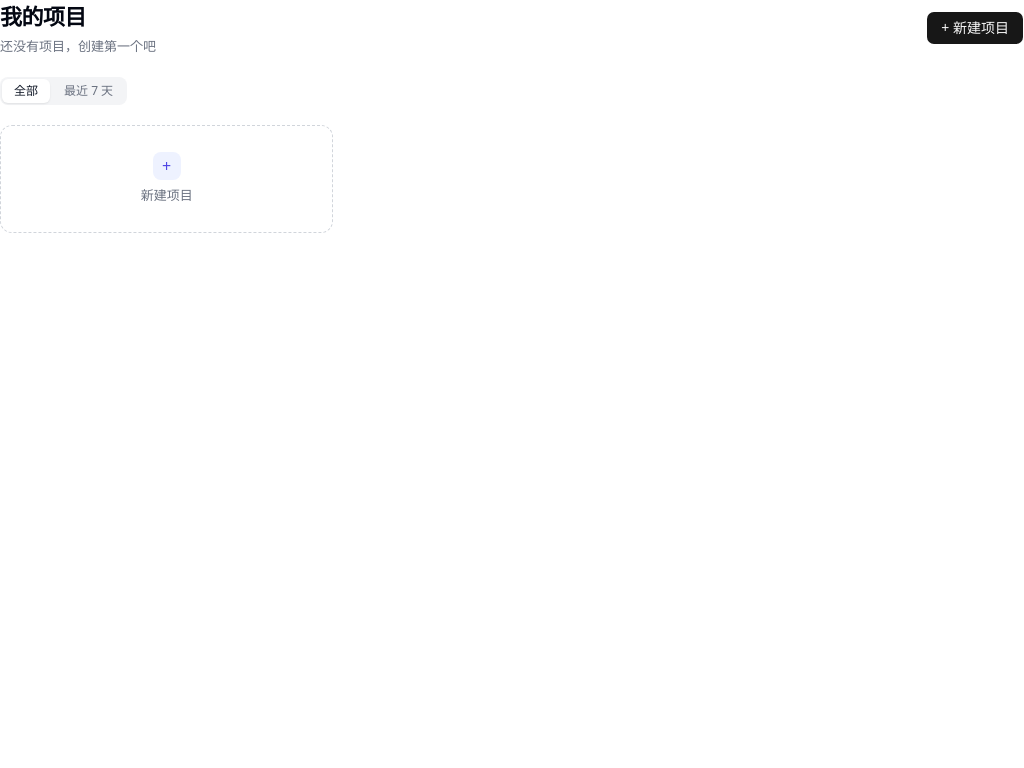
ProjectList › UI-PL-01b: empty state includes a create button that opens dialog
The "创建第一个项目" or "+ 新建项目" button
Click the button "+ 新建项目" in the row of "还没有项目，创建第一个吧" at (975, 28), box [926,11,1023,45]
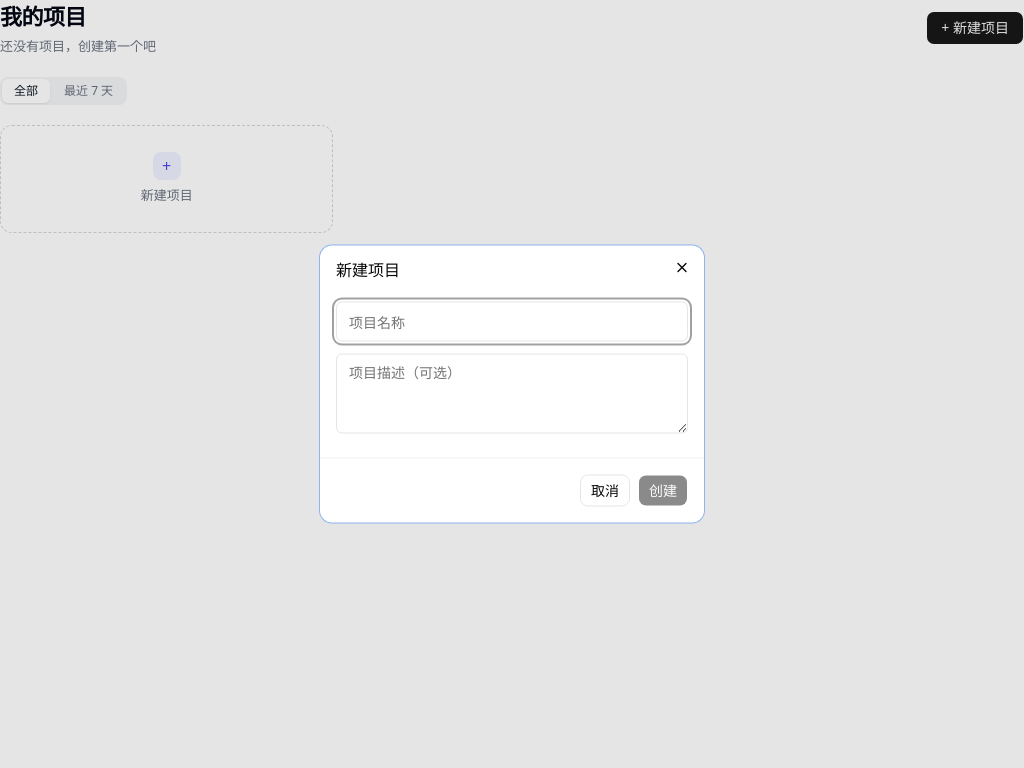
Expected: the dialog is shown, [320,246,704,522]
